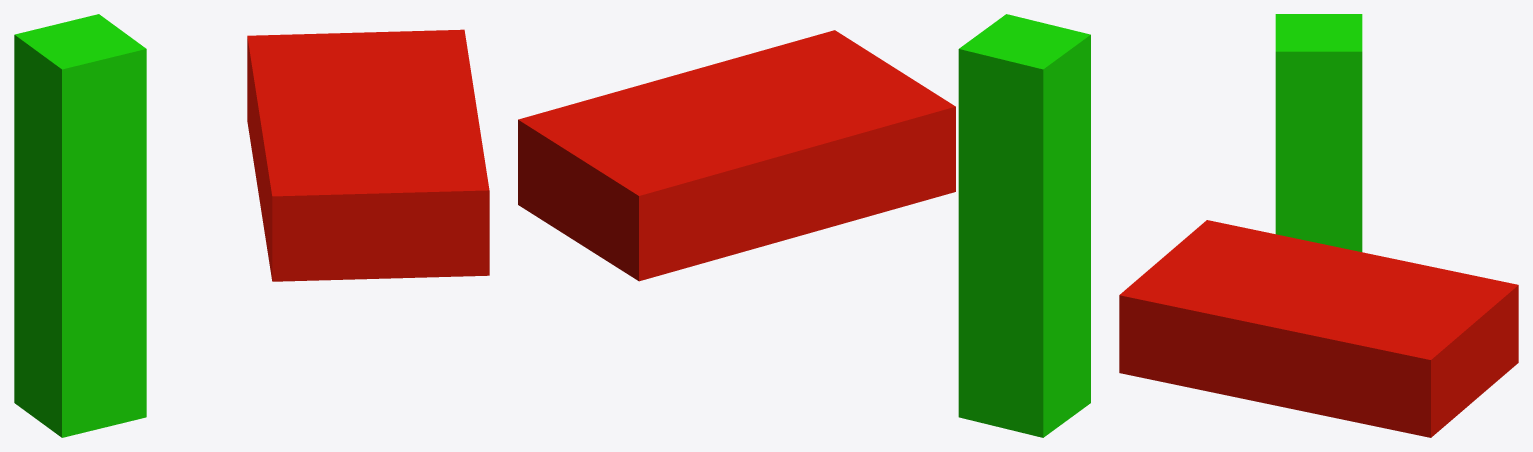
File: simple.glb
3 views of the same model, side by side, from view 1: azimuth 30°, elevation 25°; view 2: azimuth 150°, elevation 25°; view 3: azimuth 270°, elevation 25° (orthographic). The views are drawn at different scales.
Visible parts, largest first — view 1: Cube, Cube.001; view 2: Cube, Cube.001; view 3: Cube, Cube.001.
Part boxes in pixels (<box>): Cube: <box>247,29,489,281</box>; Cube.001: <box>14,14,146,437</box>; Cube: <box>518,30,955,281</box>; Cube.001: <box>958,14,1090,437</box>; Cube: <box>1119,220,1518,437</box>; Cube.001: <box>1275,14,1362,251</box>.
Size of the model in its own units: 4.94 by 3.56 by 3.84.
